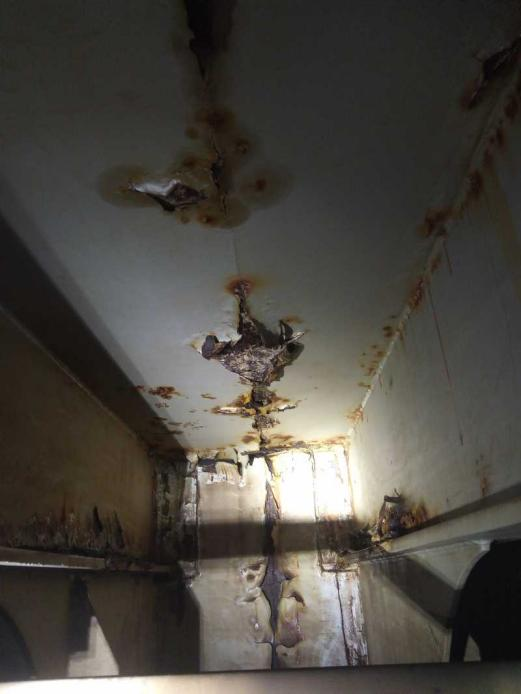corrosion: (122, 114, 301, 231), (192, 280, 308, 390), (246, 538, 307, 668), (171, 0, 238, 105), (459, 39, 521, 120), (19, 507, 128, 552), (209, 386, 298, 440), (359, 488, 439, 535), (249, 434, 350, 462), (178, 442, 243, 477), (140, 373, 185, 406), (249, 479, 281, 525), (461, 154, 497, 189), (355, 352, 383, 386), (373, 316, 409, 341), (411, 286, 433, 311), (349, 400, 365, 432), (421, 221, 444, 242)
